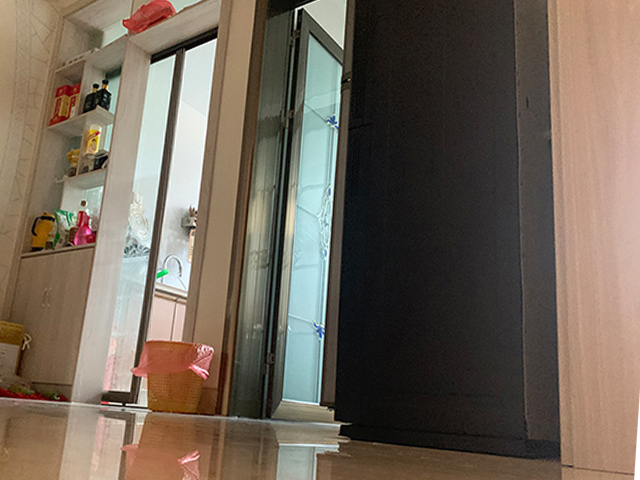cabinet: (10, 234, 113, 406)
trashcan: (144, 340, 213, 416)
